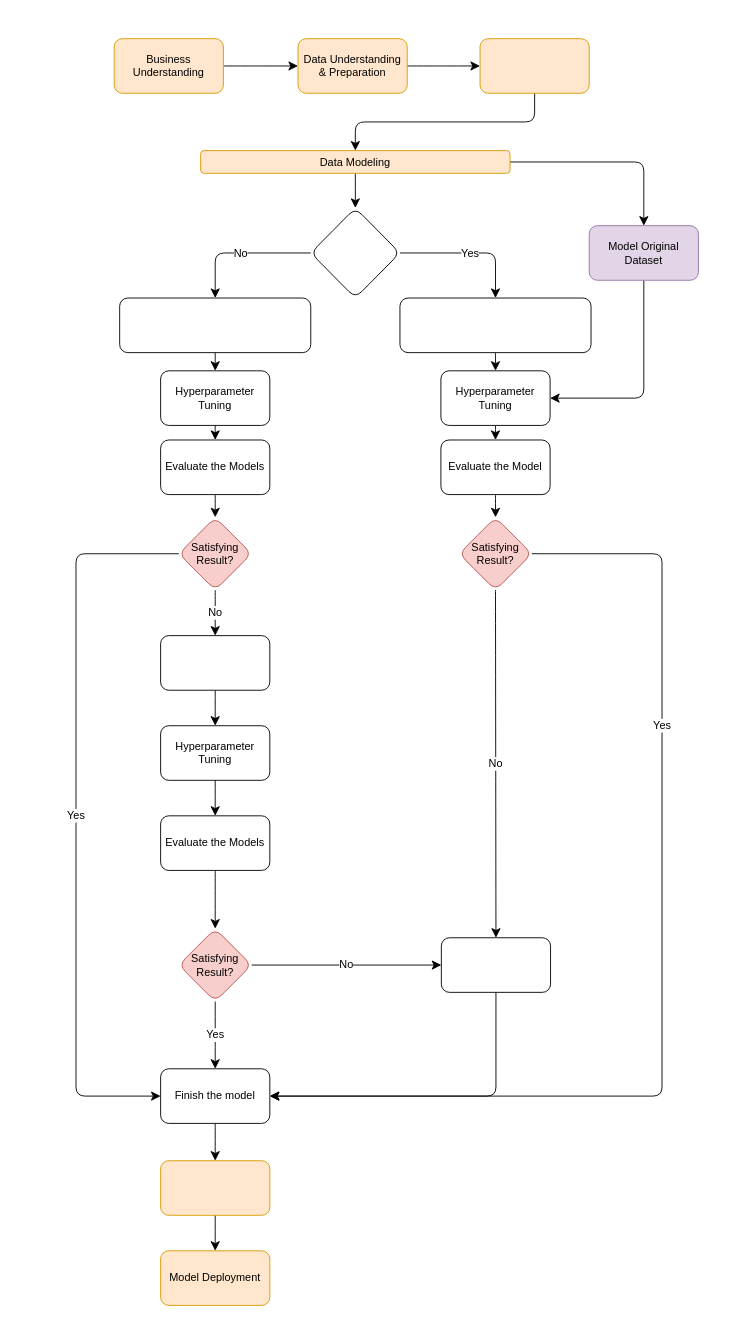
Image size: 741x1341. Some labels were removed from this diagram. Each missing label, with the centre of its shape:
Apply Feature Selection: point 215,662
Apply Feature Selection & Builds the Model: point 495,325
Apply Oversampling or Undersampling & Build the model: point 215,325
Check if the data balance: point 355,252
Ensemble Modeling: point 495,964
Exploratory Data Analysis: point 534,65
Final Model Evaluation: point 215,1187
